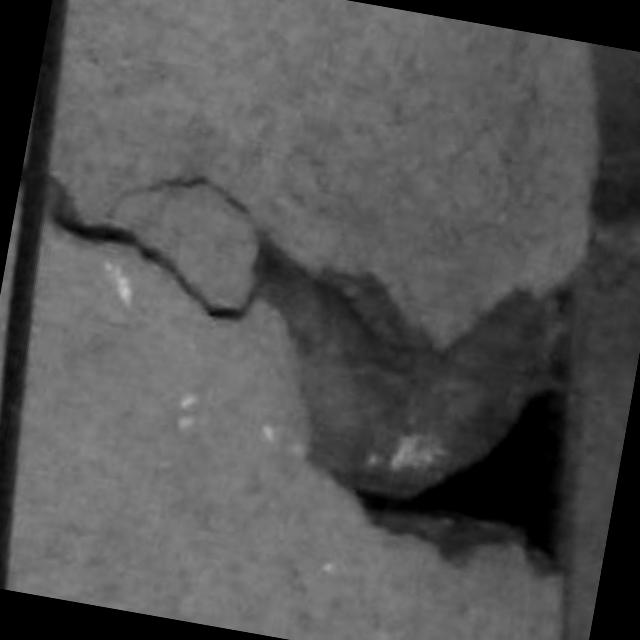crack: (258, 243, 564, 554), (46, 177, 254, 321)
